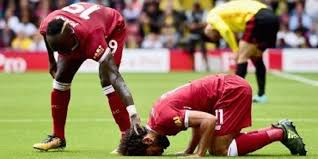sujud: (119, 72, 310, 157)
